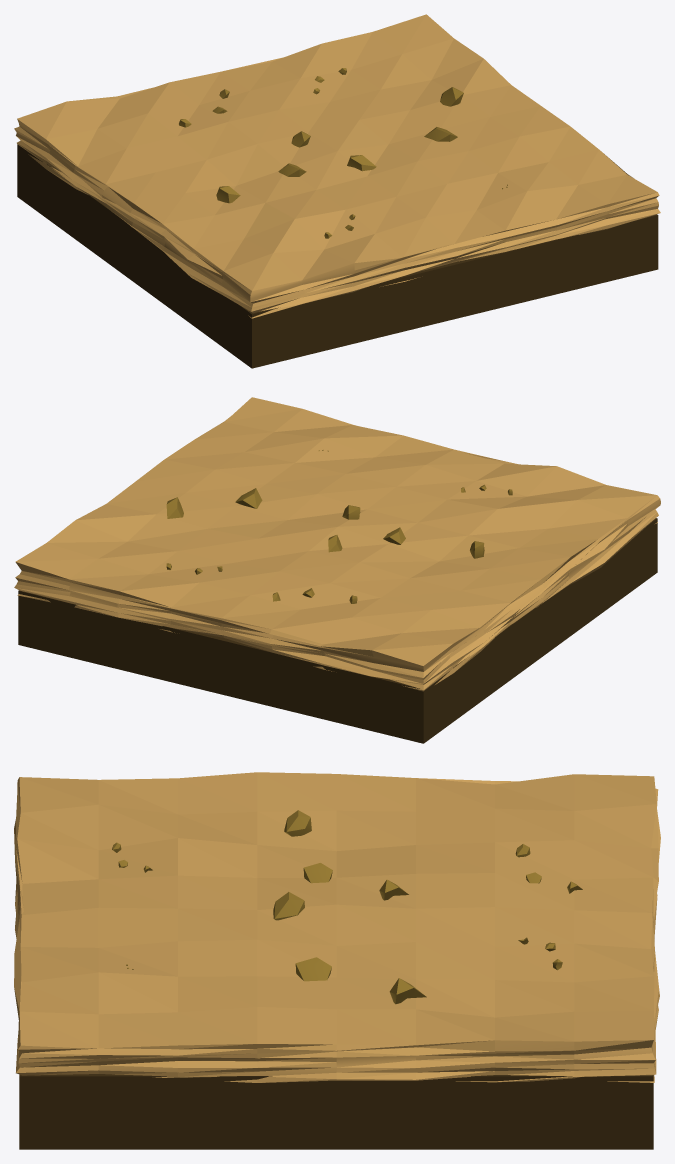
Rendered from FLOOR9.fbx.
3 views of the same model, one above another, from view 1: azimuth 30°, elevation 25°; view 2: azimuth 150°, elevation 25°; view 3: azimuth 270°, elevation 25° (orthographic). The views are drawn at different scales.
Parts seen in each view (by area): view 1: Cube_2, Cube, Cube_1; view 2: Cube_2, Cube, Cube_1; view 3: Cube_2, Cube, Cube_1, Platonic_8, Platonic_7, Platonic_5.
Part boxes in pixels (x1,y1,x2,y2): Cube_2: (14,14,660,318); Cube: (17,170,658,368); Cube_1: (17,144,658,341); Cube_2: (14,397,660,691); Cube: (18,546,657,743); Cube_1: (18,518,657,716); Cube_2: (14,772,660,1082); Cube: (19,1113,653,1149); Cube_1: (19,1074,653,1112); Platonic_8: (295,957,331,981); Platonic_7: (273,892,304,920); Platonic_5: (284,810,311,836).
Size of the model in its own units: 410 by 89.56 by 408.
